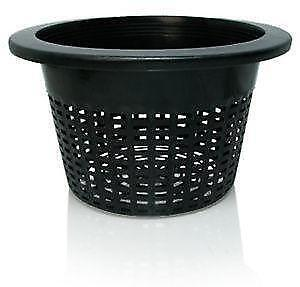basket: (7, 6, 296, 218)
